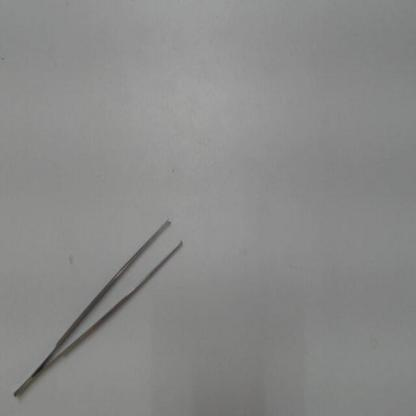Gillies Toothed Dissector: (8, 214, 192, 403)
